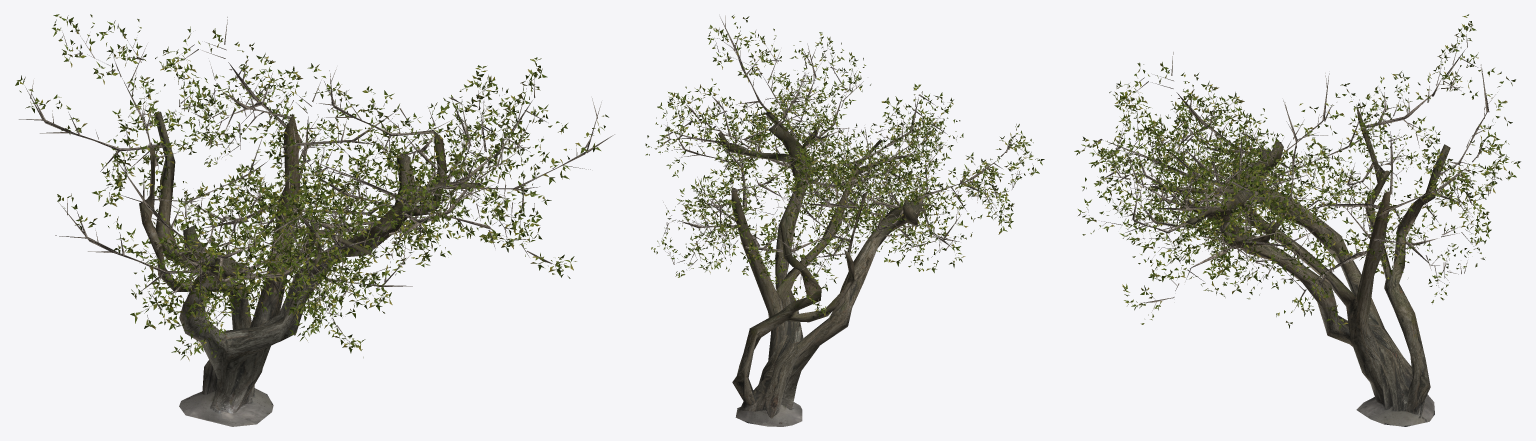
File: tree_jungle.glb
The picture shows the model from 3 angles, left to right: view 1: azimuth 30°, elevation 25°; view 2: azimuth 150°, elevation 25°; view 3: azimuth 270°, elevation 25°; orthographic projection. The views are drawn at different scales.
Visible parts, largest first — view 1: tree_jungle; view 2: tree_jungle; view 3: tree_jungle.
Boxes of the visible parts, x1,y1,x2,y2 form: tree_jungle: [15, 14, 614, 426]; tree_jungle: [645, 15, 1044, 426]; tree_jungle: [1074, 14, 1520, 426].
Bounding box in the file's own units: 4.01 × 3.39 × 4.06.
Materials: 3 (3 with a texture image).
